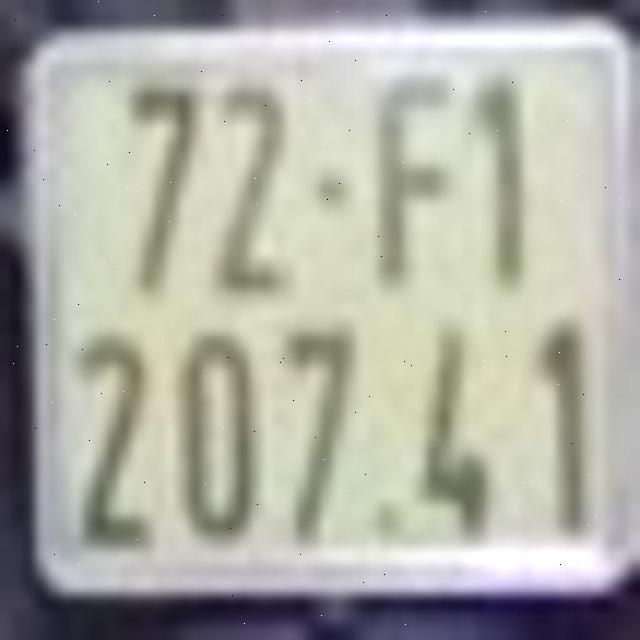0: (178, 326, 258, 540)
1: (530, 314, 602, 540), (472, 69, 537, 288)
2: (74, 332, 154, 549), (218, 80, 292, 296)
4: (414, 314, 500, 544)
7: (279, 319, 358, 546), (123, 81, 197, 294)
F: (372, 67, 460, 287)
